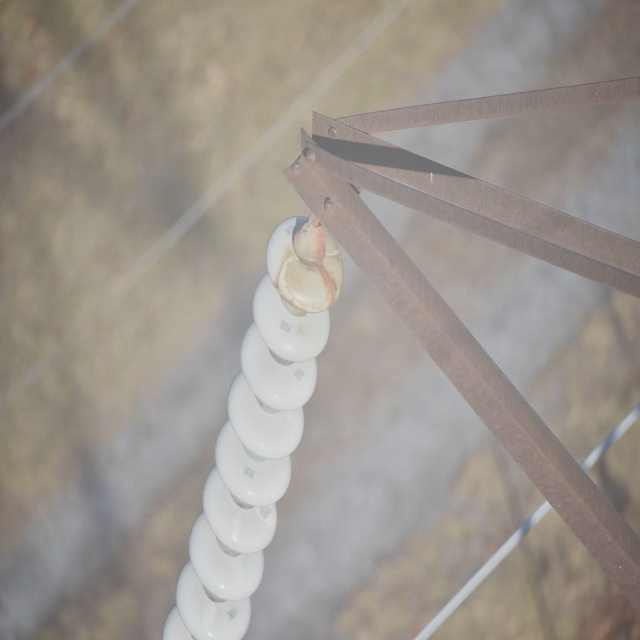insulator: (162, 213, 344, 640)
